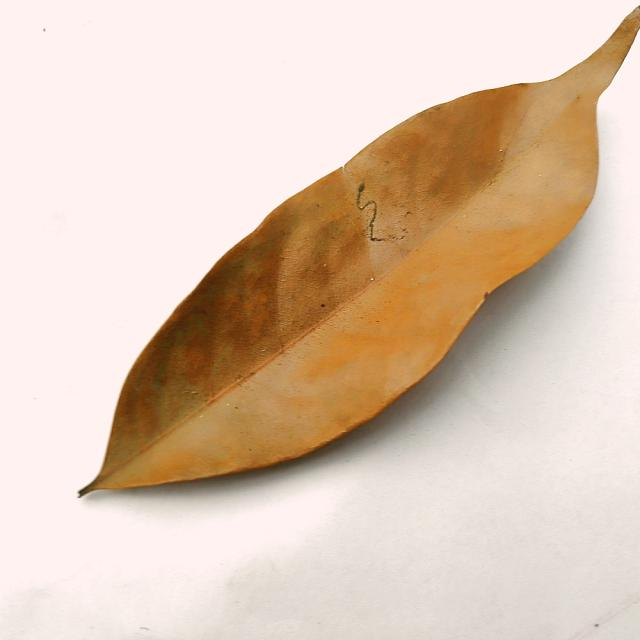Dry_Leaf-Lychee: (79, 4, 639, 496)
